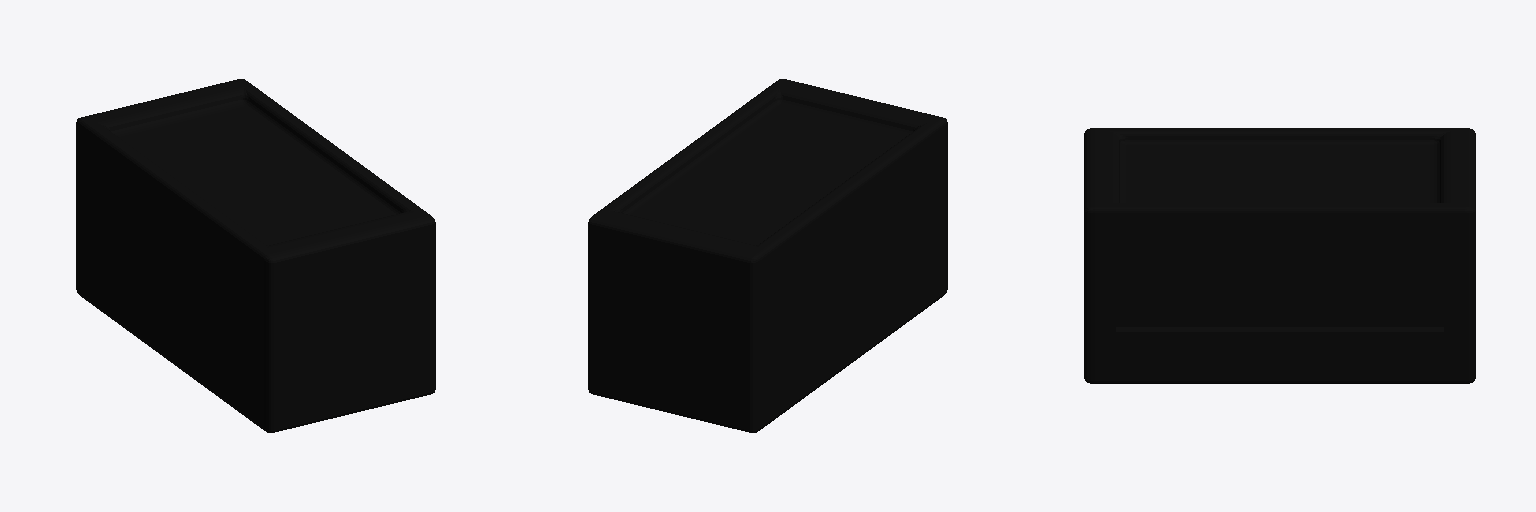
Rendered from clock_body.obj.
The picture shows the model from 3 angles: view 1: azimuth 30°, elevation 25°; view 2: azimuth 150°, elevation 25°; view 3: azimuth 270°, elevation 25°; orthographic projection.
Parts seen in each view (by area): view 1: corpo_Cube.001; view 2: corpo_Cube.001; view 3: corpo_Cube.001.
Boxes of the visible parts, box(x1,y1,x2,y2) form: corpo_Cube.001: box(76, 79, 435, 432); corpo_Cube.001: box(588, 79, 947, 432); corpo_Cube.001: box(1084, 128, 1475, 383).
Bounding box in the file's own units: 0.128 × 0.128 × 0.256.